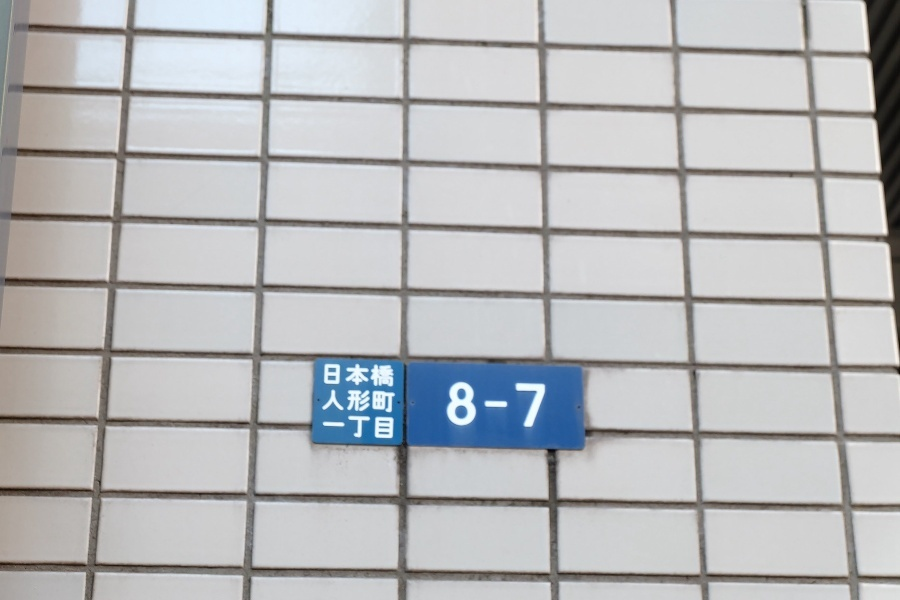text: (449, 381, 464, 430), (465, 381, 480, 430), (481, 381, 496, 430), (497, 381, 512, 430), (513, 381, 528, 430), (529, 381, 544, 430), (321, 389, 336, 415), (337, 389, 352, 415), (353, 389, 368, 415), (369, 389, 384, 415), (321, 415, 336, 441), (337, 415, 352, 441), (353, 415, 368, 441), (369, 415, 384, 441), (337, 363, 352, 386), (353, 363, 368, 386), (369, 363, 384, 386), (323, 363, 336, 386), (385, 389, 396, 415), (385, 415, 395, 441), (385, 363, 396, 386), (545, 381, 550, 430), (444, 381, 448, 430)
